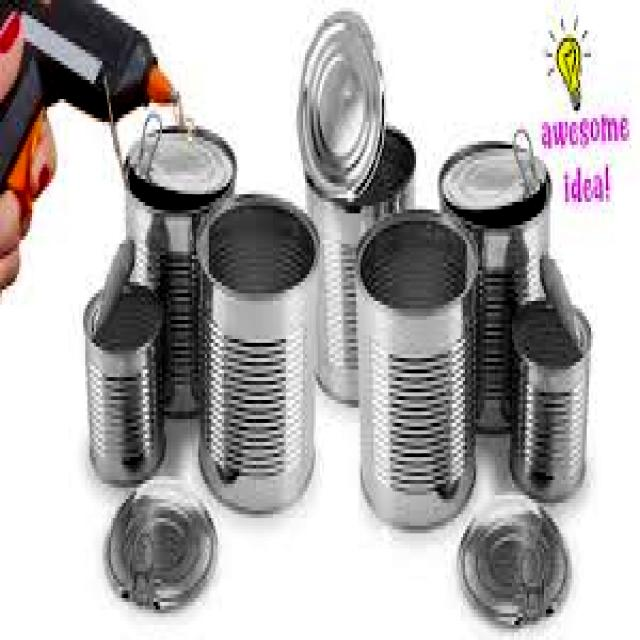Metal: (355, 202, 482, 535), (195, 185, 320, 514), (293, 7, 390, 203), (81, 275, 166, 482), (510, 291, 591, 506), (101, 475, 219, 607), (455, 495, 572, 626)
